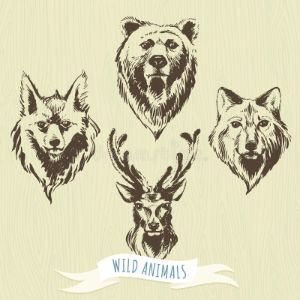bear: (117, 11, 201, 135)
fox: (8, 68, 102, 201)
wolf: (207, 83, 291, 189)
